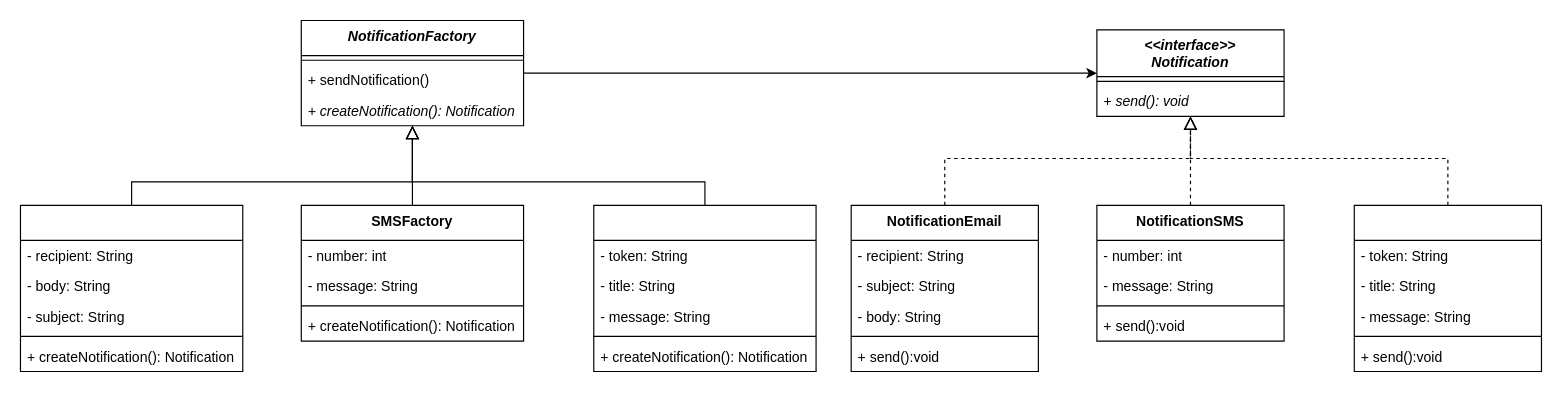
Image size: 1562x395. Some labels were removed from this diagram. The box of each missing label's shape, as (x1, y1, x2, y2) in pixels:
EmailFactory: (19, 204, 243, 371)
NotificationPush: (1353, 204, 1541, 371)
PushFactory: (593, 204, 816, 371)
